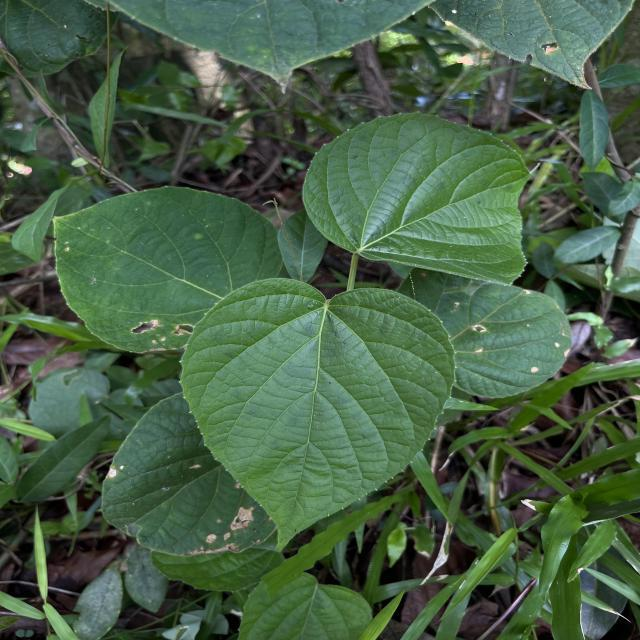Clerodendrum infortunatum: (176, 276, 459, 555), (298, 110, 542, 288), (50, 184, 288, 356)
